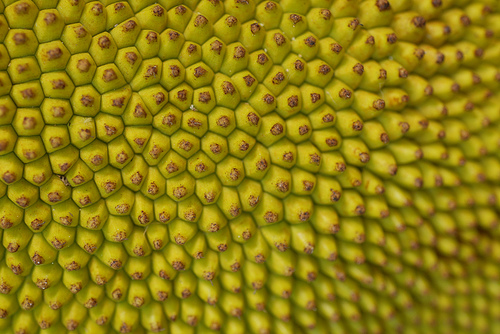jackfruit: (0, 0, 498, 332)
